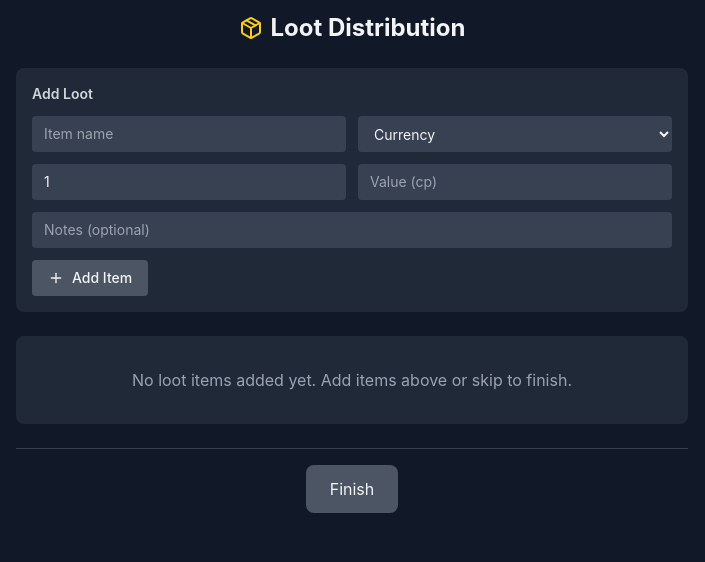
LootDistribution › shows the distribution summary after distributing
Type "Iron Shield" into the field with placeholder "Item name".
click(189, 134); type("Iron Shield")  # box x1=32 y1=116 x2=346 y2=152
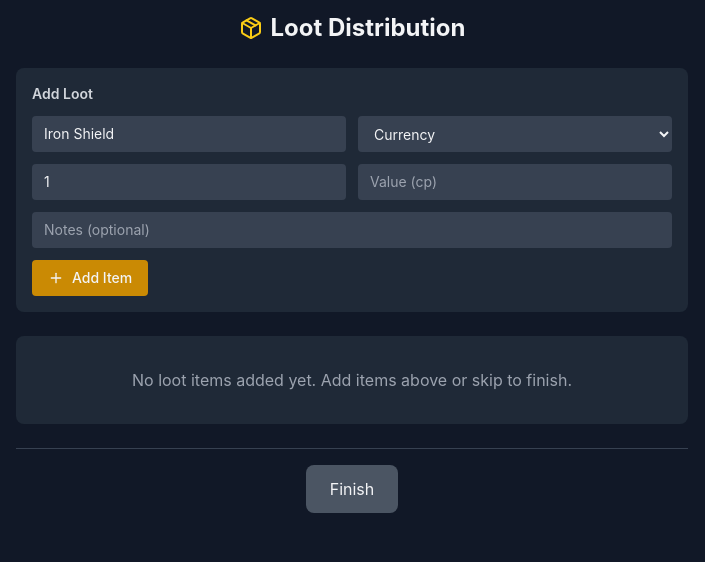
Select "Equipment" in the dropdown at {"x": 515, "y": 134}, box x1=358 y1=116 x2=672 y2=152
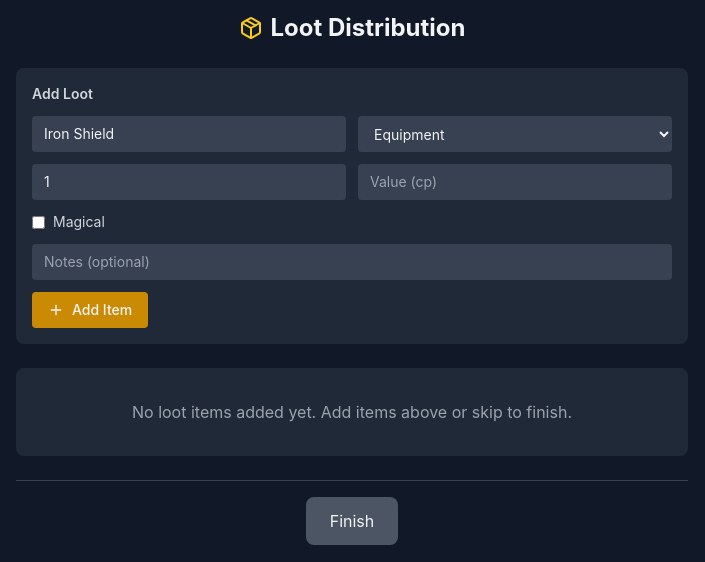
Click the button "Add Item".
click(90, 310)  # box x1=32 y1=292 x2=148 y2=328
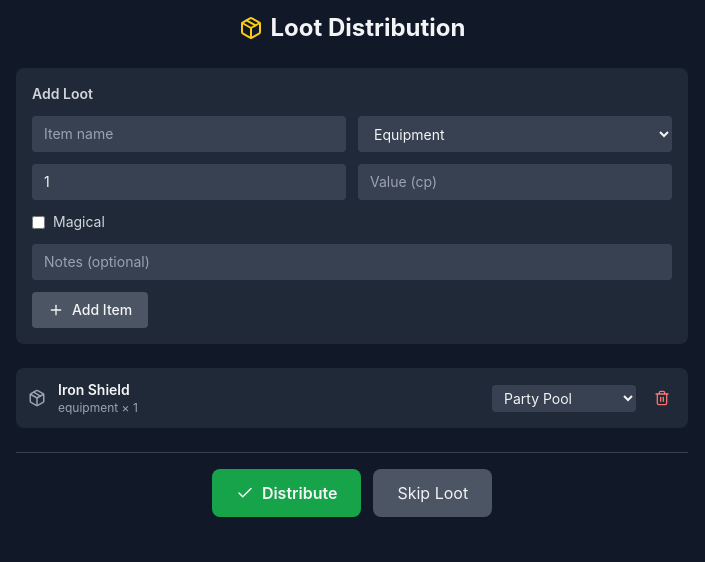
Click the button "Distribute".
click(287, 493)  # box x1=212 y1=469 x2=362 y2=517
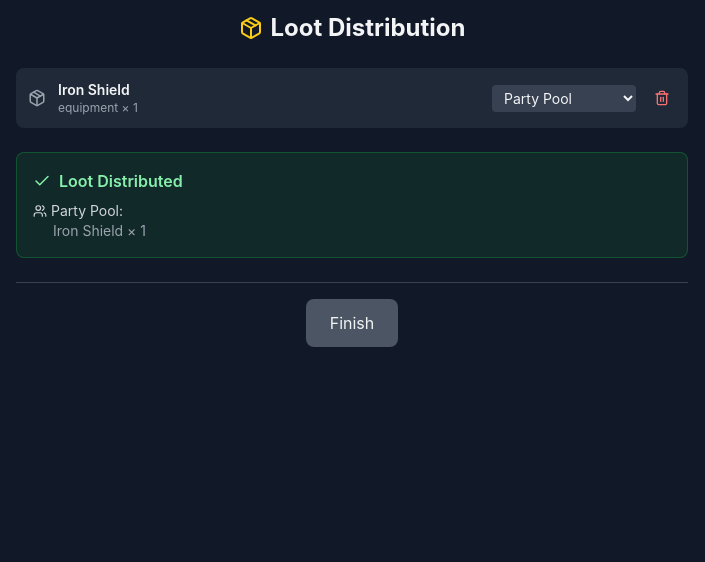
expect the text "Loot Distributed" is shown: met, box x1=33 y1=171 x2=183 y2=191
